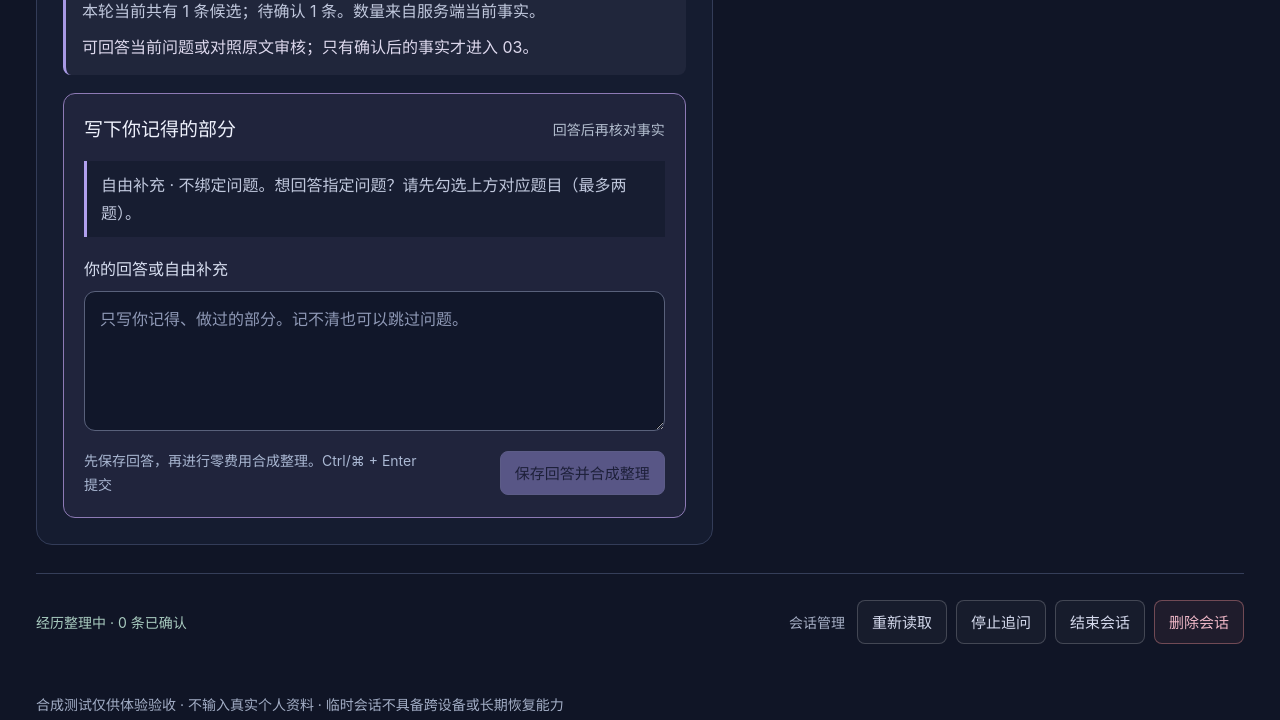
does not claim extraction success for a completed zero-candidate run with questions
(page scrolled)
Expected: the button "重新读取" is enabled, x1=857 y1=600 x2=947 y2=644
Type "Synthetic answer: I built the filter UI." into the text box labelled "你的回答或自由补充" at (374, 361), box x1=84 y1=291 x2=665 y2=431
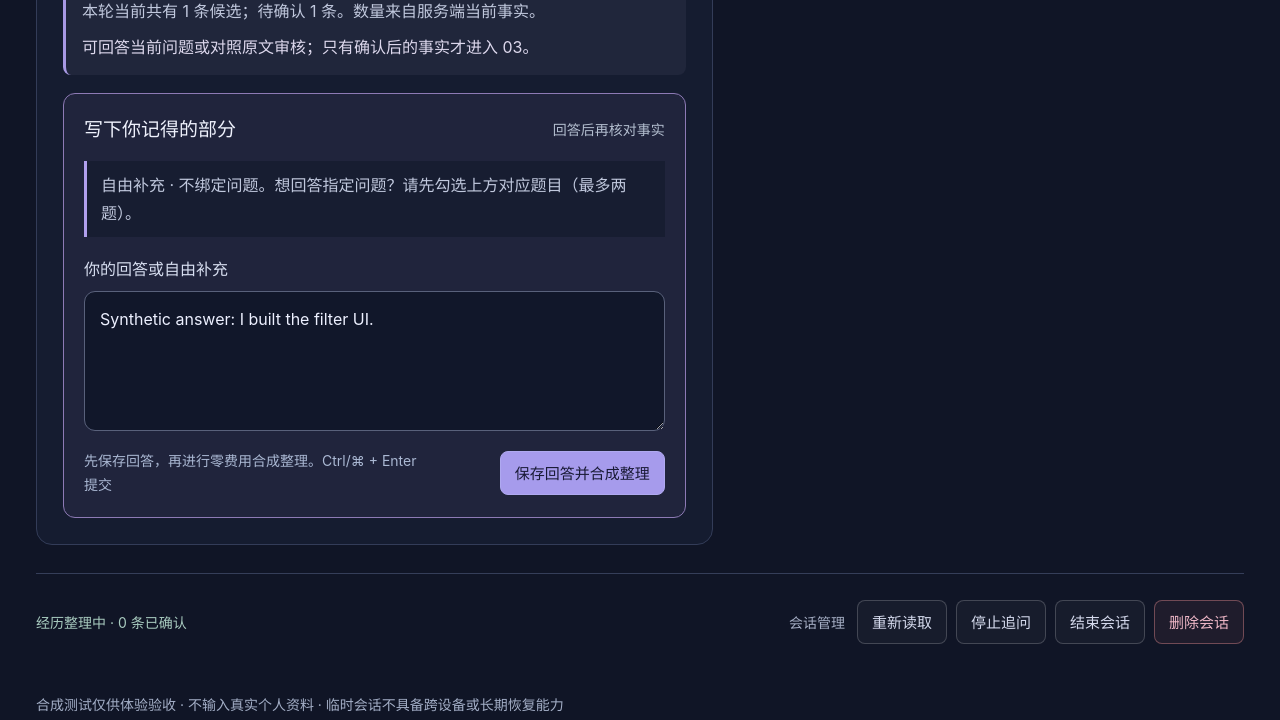
Click the button "保存回答并合成整理" at (582, 473), box x1=500 y1=451 x2=665 y2=495
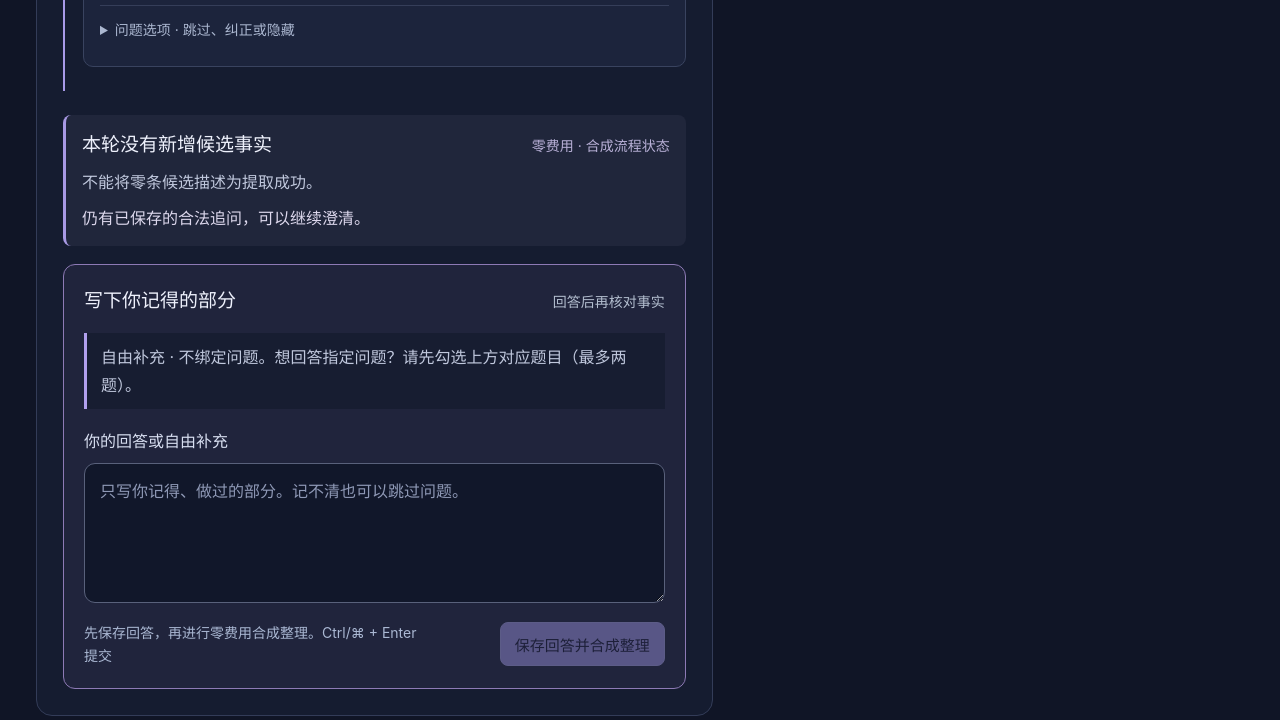
Expected: the message named "整理交互状态" shows "仍有已保存的合法追问", x1=82 y1=208 x2=370 y2=228
